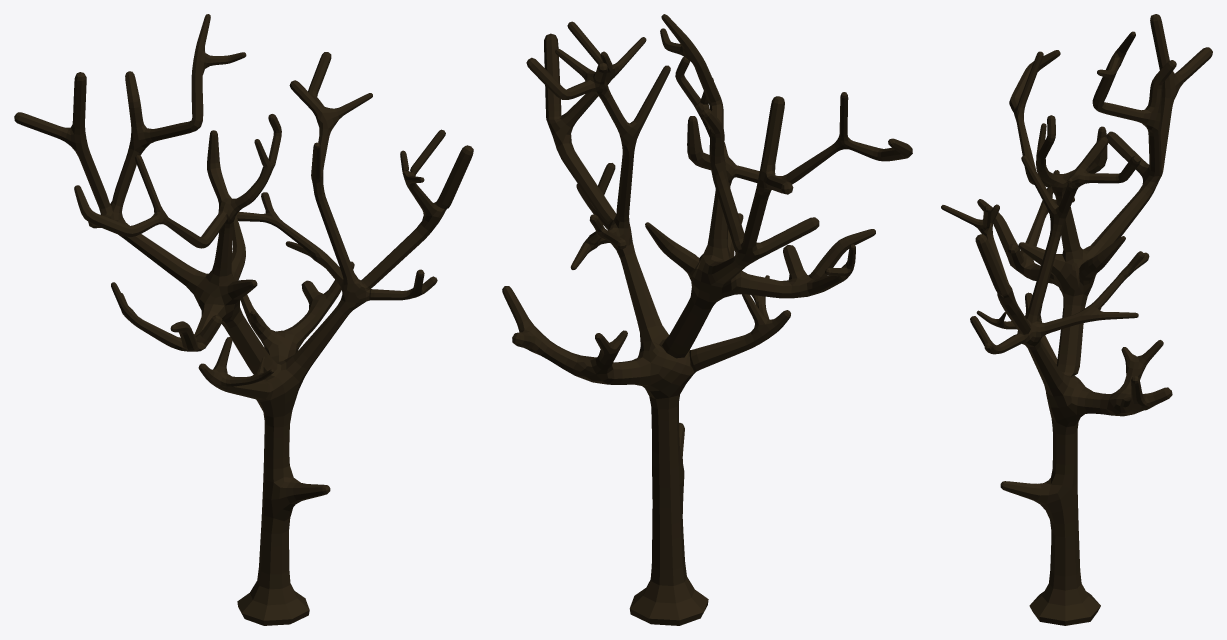
File: tree.fbx
3 renders of one model, left to right at view 1: azimuth 30°, elevation 25°; view 2: azimuth 150°, elevation 25°; view 3: azimuth 270°, elevation 25°, orthographic. The views are drawn at different scales.
Visible parts, largest first — view 1: Cube.001; view 2: Cube.001; view 3: Cube.001.
Boxes of the visible parts, x1,y1,x2,y2 form: Cube.001: (14,14,473,625); Cube.001: (502,14,912,625); Cube.001: (941,14,1212,625).
Size of the model in its own units: 588 by 899 by 390.
